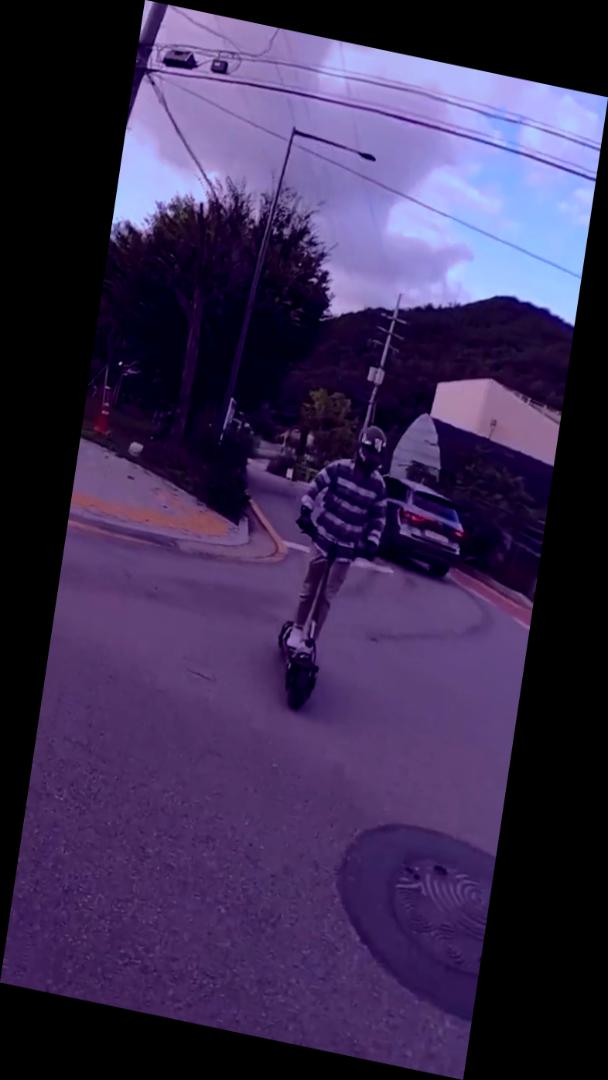helmet: (264, 408, 403, 724)
